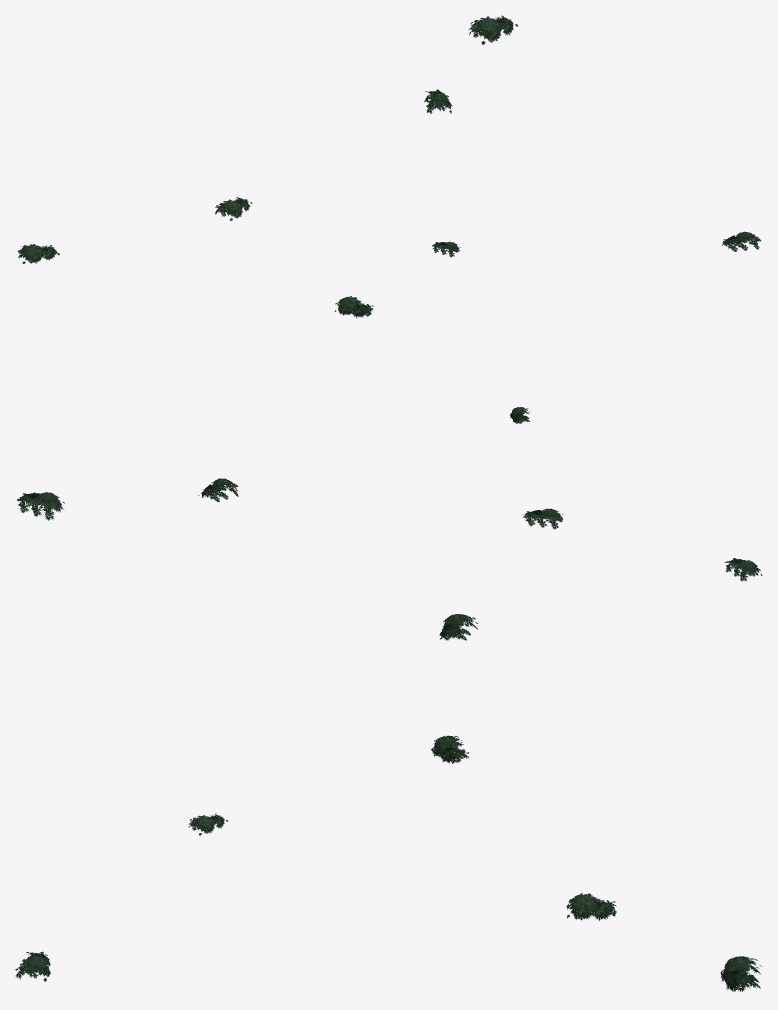
The model's file is Area_13_11.fbx.
3 renders of one model, top to bottom at view 1: azimuth 30°, elevation 25°; view 2: azimuth 150°, elevation 25°; view 3: azimuth 270°, elevation 25°, orthographic. The views are drawn at different scales.
Visible parts, largest first — view 1: Area_13_11; view 2: Area_13_11; view 3: Area_13_11.
Part boxes in pixels (x1=…): Area_13_11: x1=17, y1=15, x2=761, y2=263; Area_13_11: x1=17, y1=296, x2=762, y2=581; Area_13_11: x1=15, y1=614, x2=761, y2=991.
Bounding box in the file's own units: 6366 × 259 × 5295.
